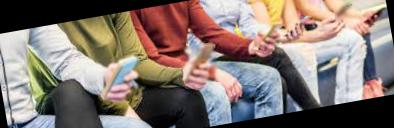Mobile-phone: (97, 54, 147, 106), (180, 42, 222, 87), (256, 22, 283, 51), (362, 4, 388, 26), (334, 1, 356, 22)
